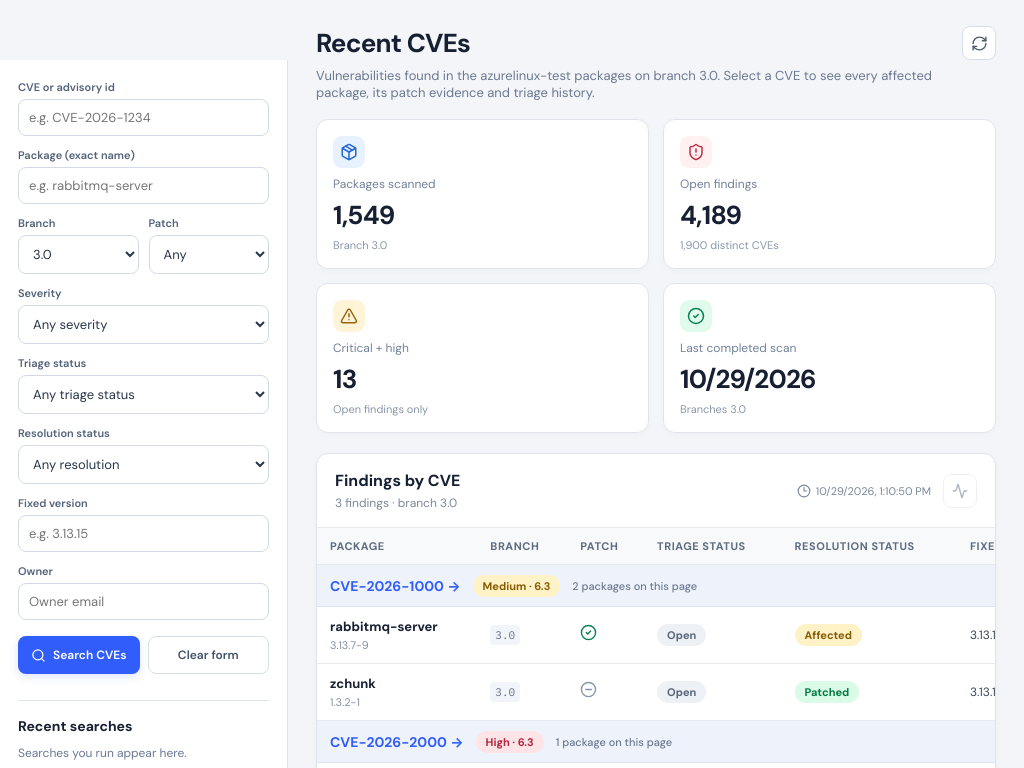
it: CVEs page (home) › sends the filters to the server and remembers the search
The width and height of the screenshot is (1024, 768).
Expected: the text "rabbitmq-server" is shown, [330,618,438,635]
Type "rabbitmq-server" into the search field labelled "Package (exact name)".
click(144, 186); type("rabbitmq-server")  # box [18,167,269,204]
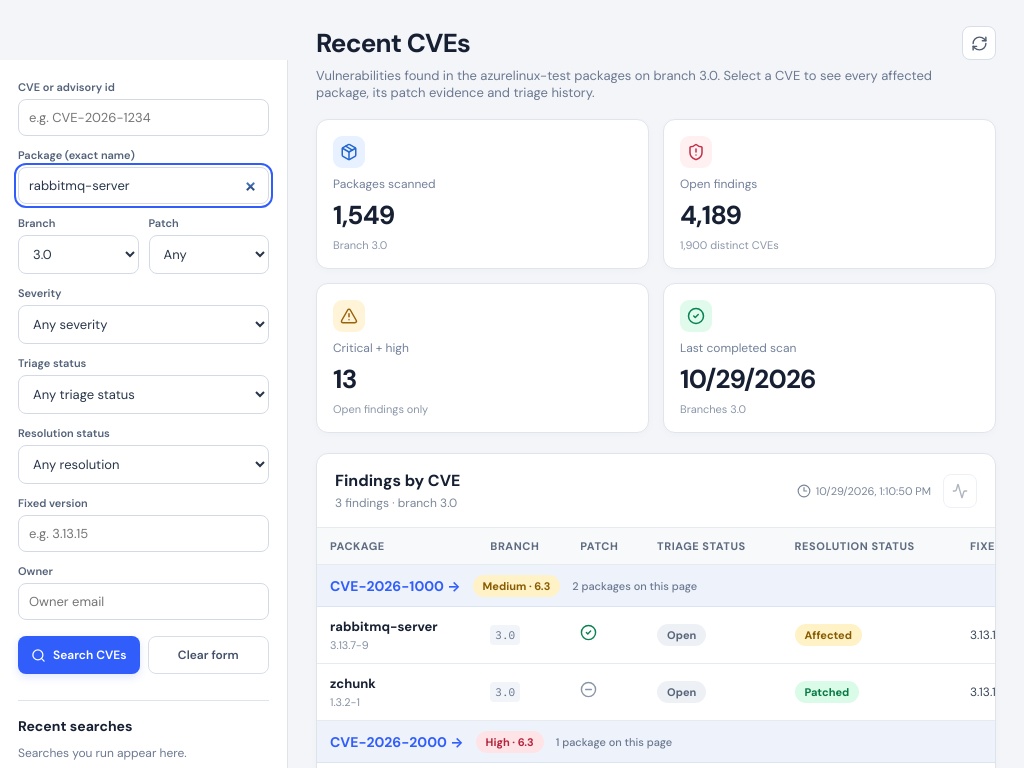
Select "High" in the dropdown labelled "Severity" at (144, 324), box [18,305,269,344]
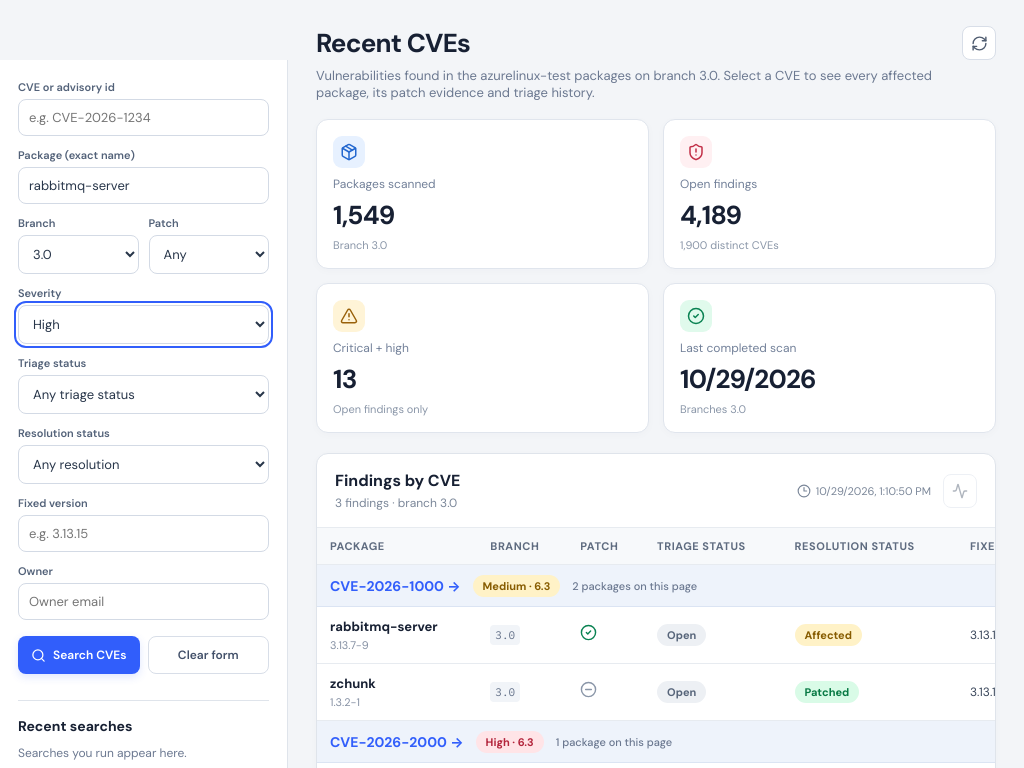
Click the button "Search CVEs".
click(79, 655)  # box [18,636,140,674]
(page scrolled)
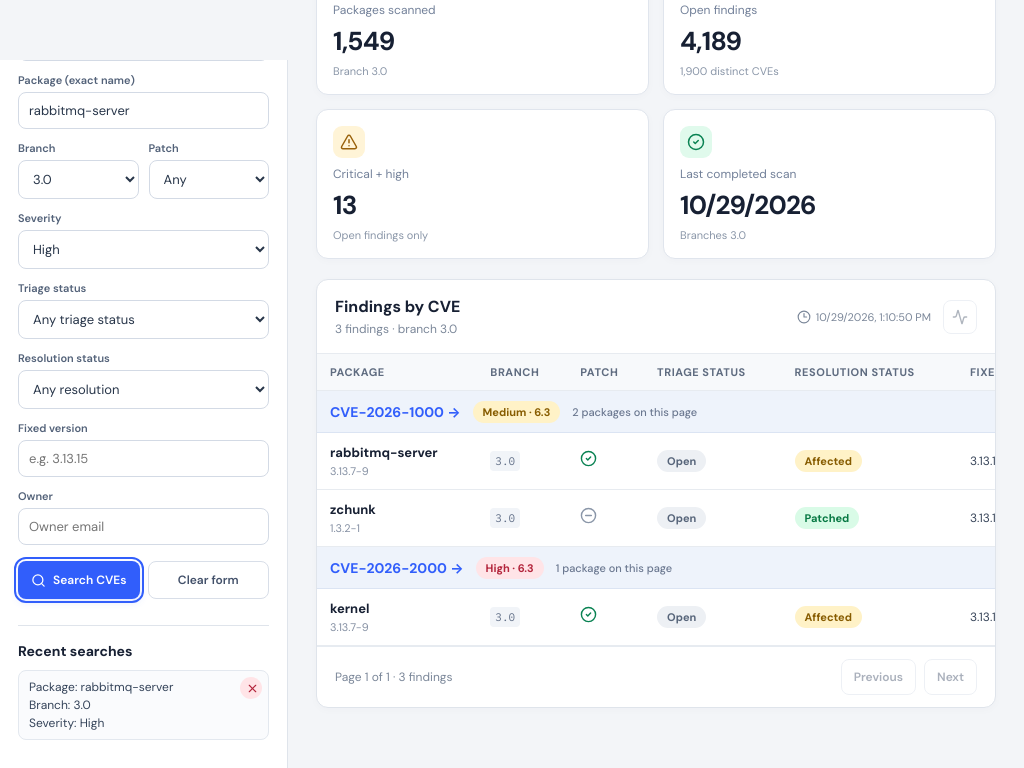
Expected: the text "rabbitmq-server" is shown, [330,444,438,461]
Now the text "Package: rabbitmq-server" is shown, box [29,679,173,695]
Click the button named "remove recent search".
click(251, 688)  # box [240,677,262,699]
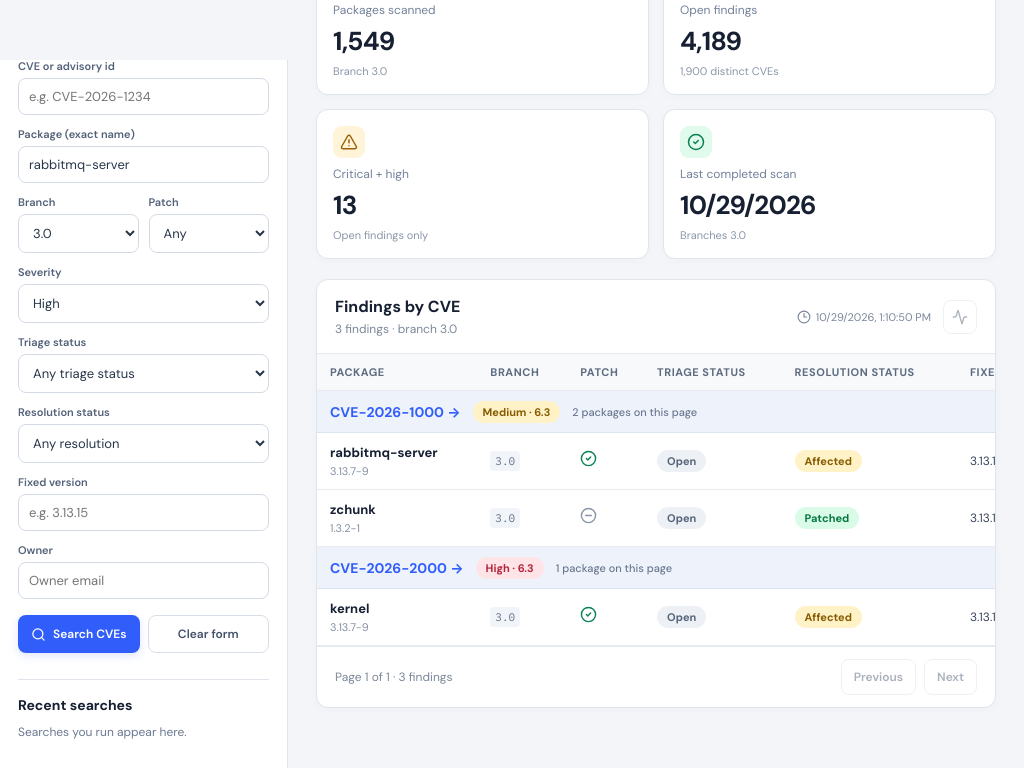
Now the text "Searches you run appear here." is shown, box [18,724,187,740]
